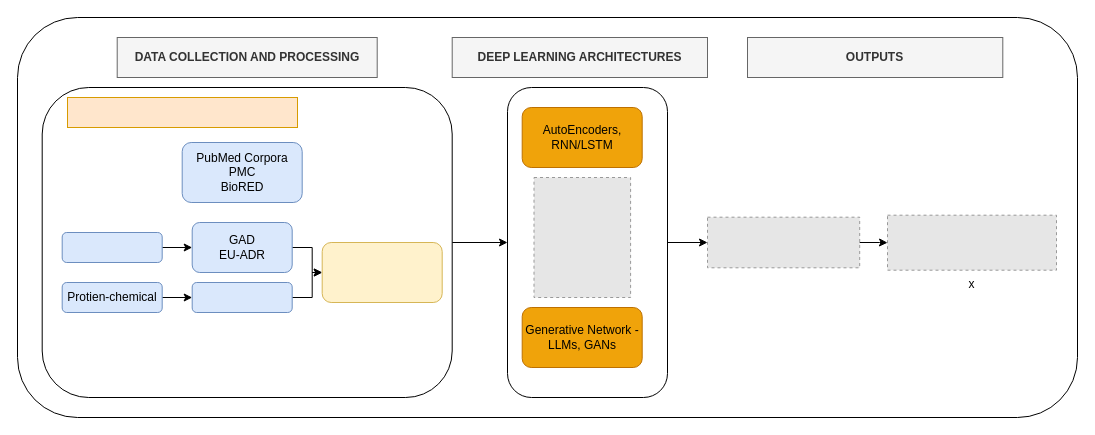
The diagram is 1095 pixels wide and 435 high, and some of its shapes have lost their labels. Grey dashed boxes stand in for pictures. Here are the shapes that lost their labels. From the top down, the centre of each, then its label:
the point at 182,112: DATASETS
the point at 111,247: Gene-disease
the point at 381,272: Text Preprocessing Annotations
the point at 241,297: Chemprot
